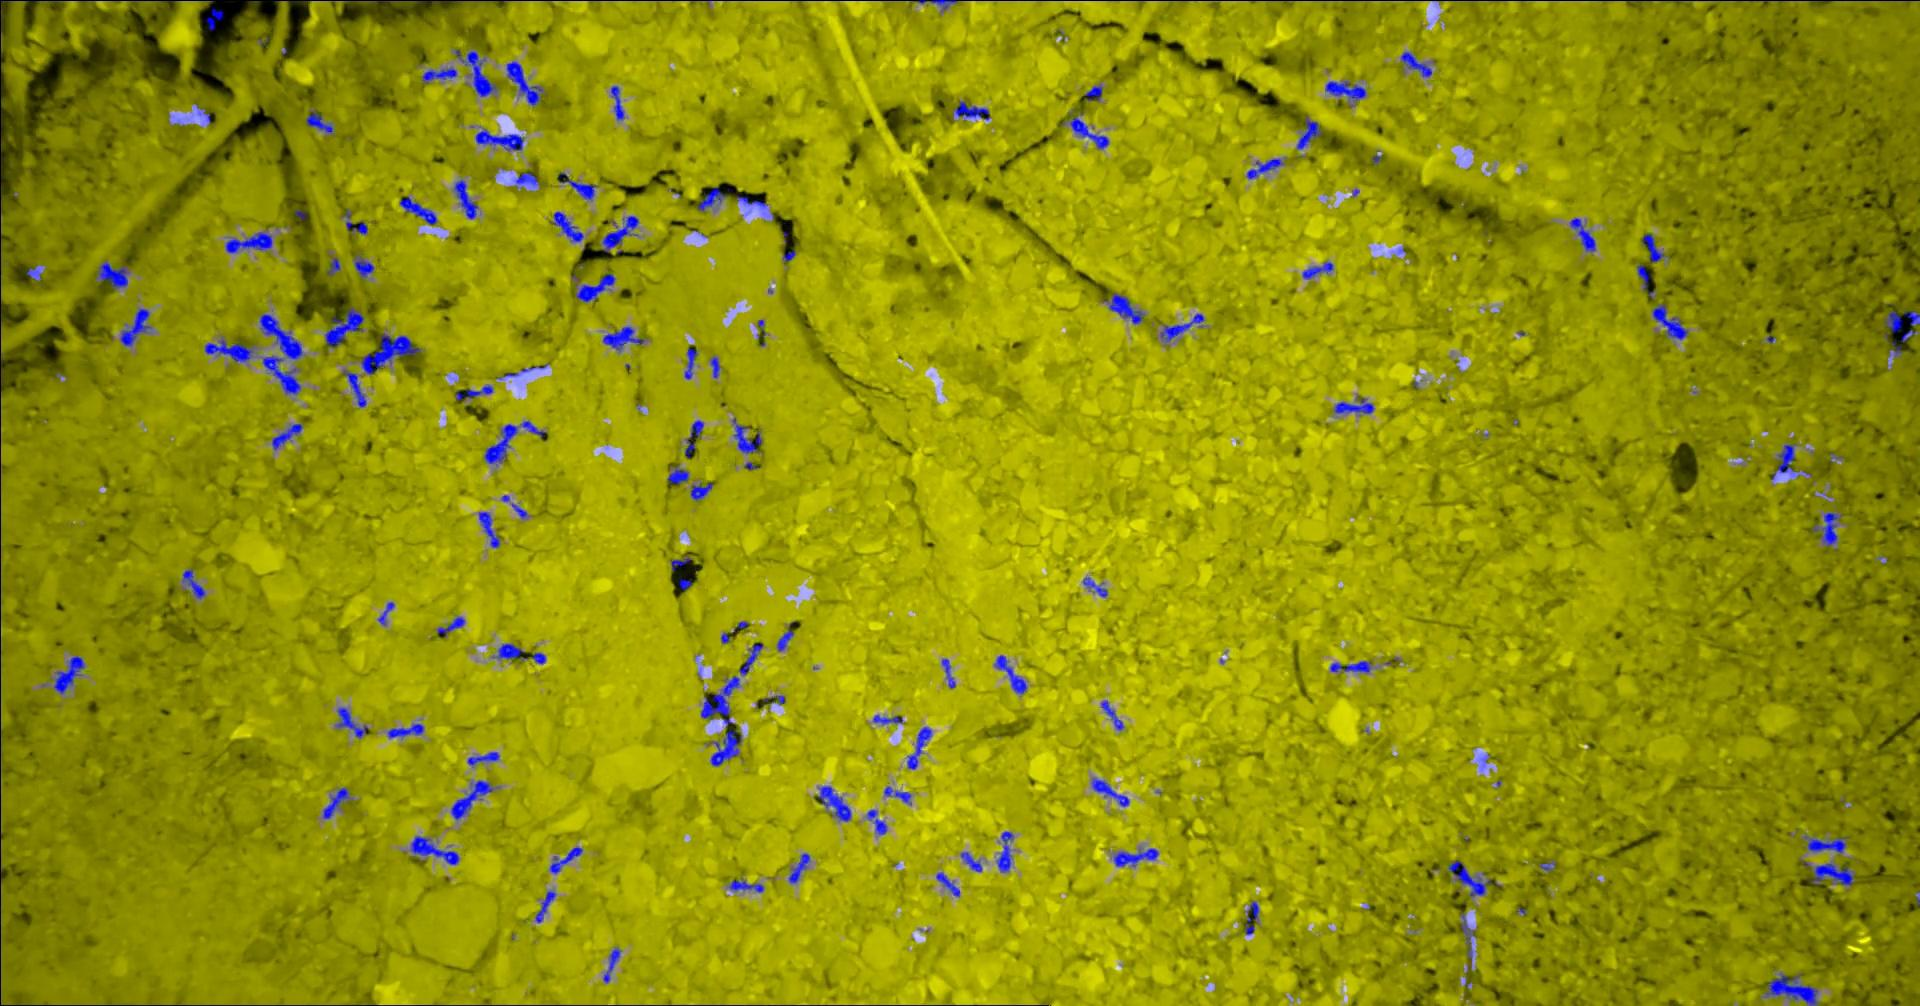ant: (700, 643, 762, 727), (361, 333, 420, 373), (259, 314, 302, 359), (455, 50, 497, 97), (1448, 860, 1498, 895), (1764, 973, 1817, 1005), (450, 780, 491, 819), (505, 61, 542, 105), (324, 307, 363, 347), (262, 354, 300, 394), (483, 423, 517, 466), (410, 835, 458, 864), (602, 215, 637, 251), (1069, 116, 1109, 149), (1652, 304, 1688, 339), (1101, 293, 1144, 323), (994, 655, 1026, 694), (817, 785, 850, 821), (1161, 312, 1203, 340), (119, 307, 150, 345), (53, 655, 84, 694), (710, 729, 742, 765), (575, 273, 615, 301), (731, 417, 761, 453), (557, 171, 596, 199), (905, 727, 931, 768), (1091, 779, 1129, 807), (1777, 443, 1810, 475), (1811, 512, 1841, 546), (475, 128, 523, 150), (204, 339, 253, 361), (399, 196, 436, 224), (550, 211, 583, 241), (1324, 80, 1365, 104), (602, 326, 643, 351), (335, 708, 367, 738), (95, 260, 128, 290), (1811, 862, 1853, 885), (453, 179, 477, 218), (342, 370, 366, 406), (1570, 217, 1595, 251), (225, 232, 270, 251), (323, 788, 350, 818), (549, 847, 582, 873), (1112, 848, 1158, 866), (1399, 51, 1431, 76), (270, 423, 302, 448), (1297, 116, 1321, 149), (477, 511, 499, 547), (1246, 158, 1283, 178), (996, 831, 1013, 873), (1804, 835, 1846, 852), (697, 185, 726, 211), (684, 420, 703, 459), (1460, 911, 1474, 962), (182, 568, 204, 598), (305, 109, 333, 133), (1641, 232, 1663, 262), (1333, 396, 1373, 413), (342, 208, 367, 234), (535, 890, 555, 922), (954, 102, 989, 119), (490, 643, 526, 661), (602, 948, 620, 982), (1900, 310, 1919, 342), (1101, 701, 1123, 729), (789, 854, 809, 883), (436, 616, 463, 636), (1302, 260, 1333, 278), (455, 385, 491, 400), (935, 873, 959, 895), (422, 67, 456, 83), (1082, 577, 1107, 597), (866, 809, 886, 835), (387, 723, 423, 737), (883, 786, 910, 804), (610, 85, 623, 119), (1330, 661, 1370, 672), (776, 622, 792, 650), (1244, 901, 1258, 934), (354, 253, 373, 277), (728, 879, 763, 892), (467, 751, 499, 765), (667, 464, 688, 484), (960, 851, 982, 871), (204, 8, 223, 30), (690, 481, 712, 500), (909, 0, 957, 9), (941, 658, 955, 688), (519, 420, 545, 437), (1884, 310, 1902, 333), (684, 347, 697, 379), (377, 601, 394, 625), (737, 196, 767, 208), (1636, 265, 1650, 290), (516, 171, 537, 185), (1084, 85, 1102, 100), (872, 714, 902, 723), (510, 503, 527, 518), (326, 257, 339, 276), (670, 558, 690, 570), (25, 265, 41, 281), (762, 695, 785, 705), (710, 356, 719, 377), (530, 652, 545, 663), (678, 578, 692, 589), (782, 250, 795, 260), (343, 0, 423, 1)
